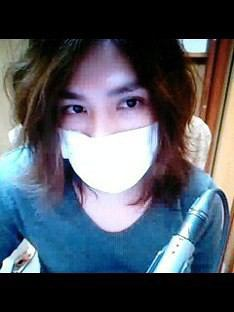face_mask: (57, 35, 159, 190)
